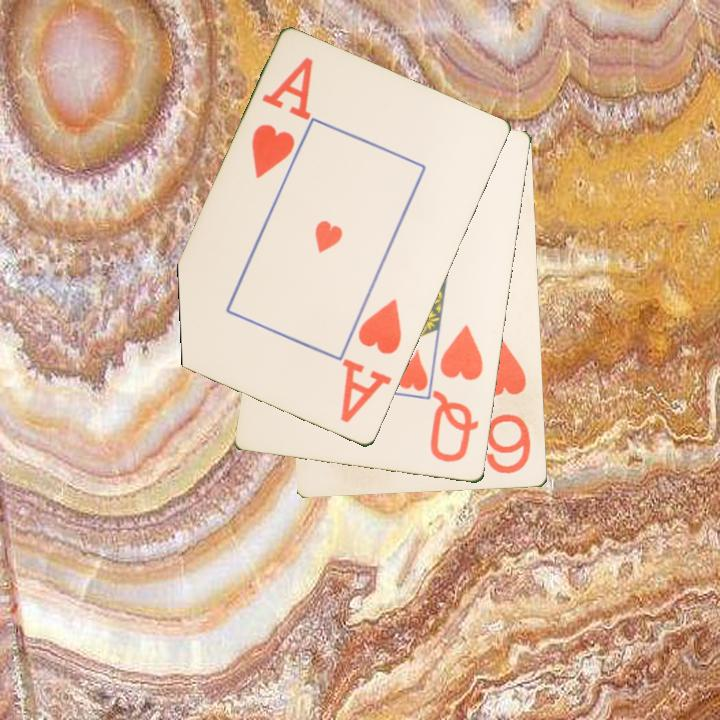6h: (481, 337, 537, 477)
Ah: (337, 295, 405, 427), (248, 54, 317, 182)
Qh: (426, 322, 487, 466)
